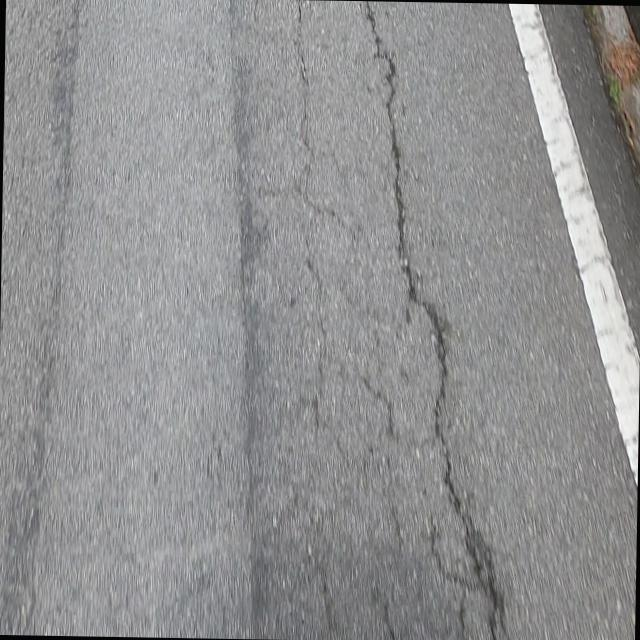Retak-Memanjang: (359, 1, 498, 640), (293, 7, 328, 439)
